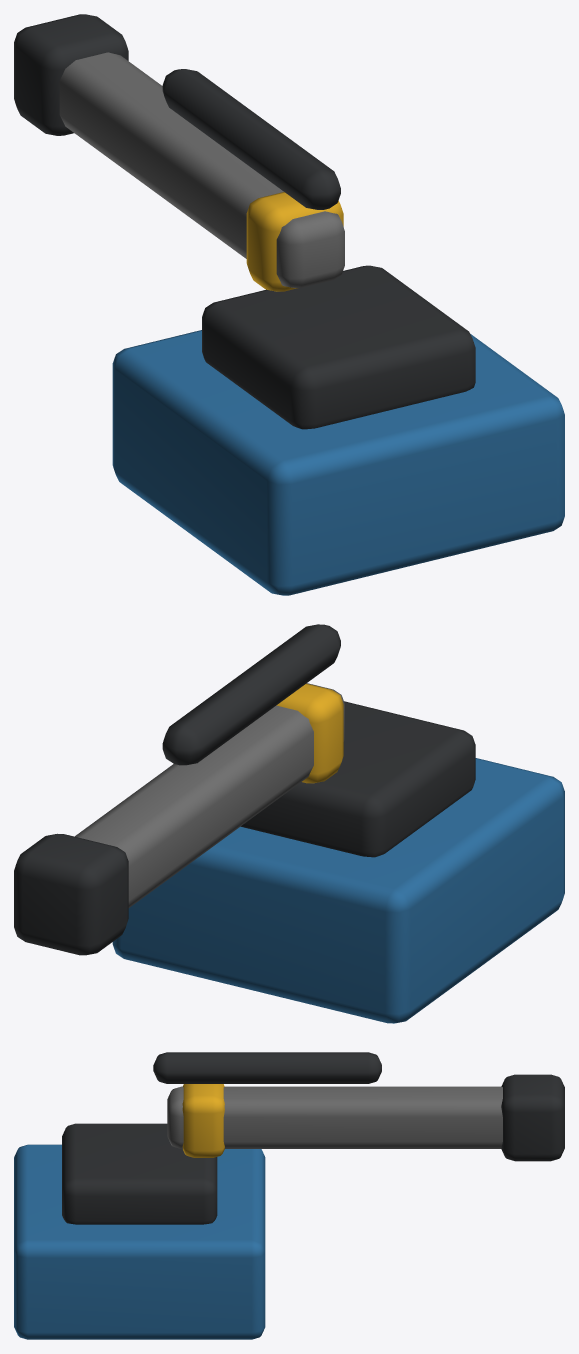
File: trap-boom.glb
3 views of the same model, one above another, from view 1: azimuth 30°, elevation 25°; view 2: azimuth 150°, elevation 25°; view 3: azimuth 270°, elevation 25° (orthographic). The views are drawn at different scales.
Parts seen in each view (by area): view 1: trap-boom, boom; view 2: trap-boom, boom; view 3: trap-boom, boom.
Boxes of the visible parts, x1,y1,x2,y2 form: trap-boom: (112, 265, 564, 595); boom: (14, 14, 344, 291); trap-boom: (112, 701, 564, 1023); boom: (14, 624, 344, 955); trap-boom: (14, 1123, 265, 1339); boom: (153, 1052, 564, 1161).
Size of the model in its own units: 0.55 by 0.575 by 1.21.
